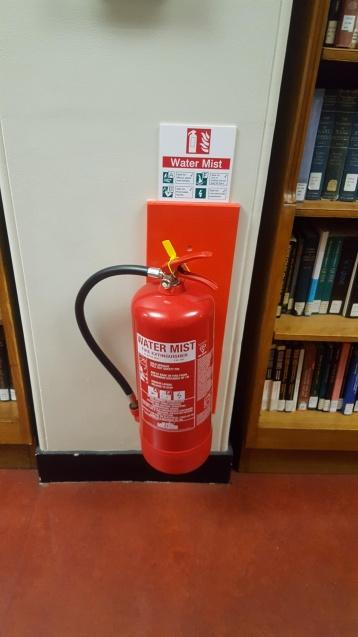APAR: (129, 251, 224, 474)
